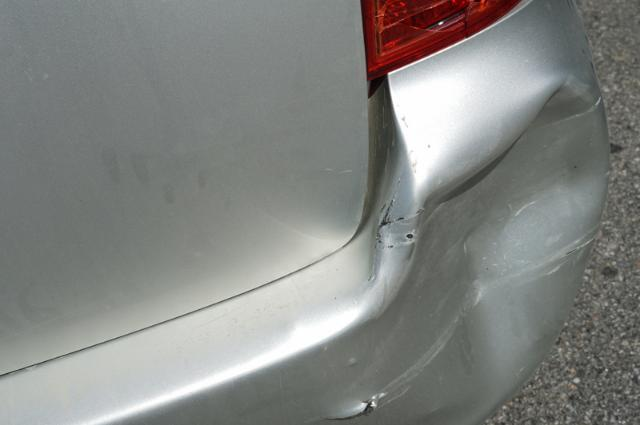Bumper: (373, 80, 637, 425)
